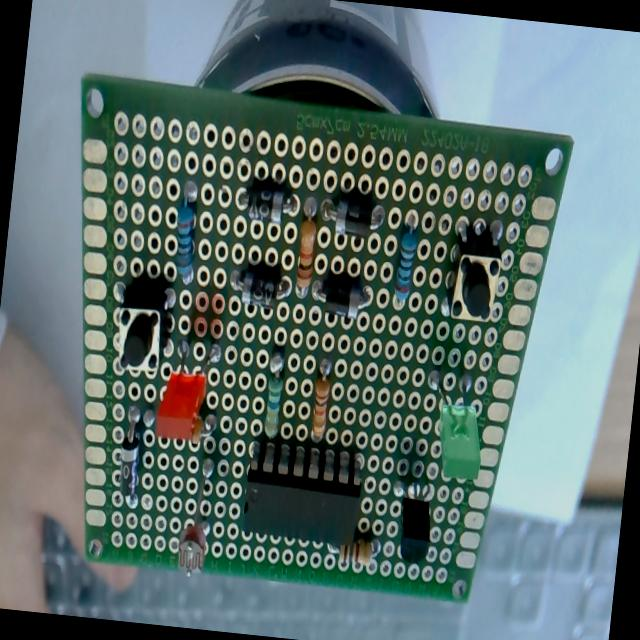IC: (237, 440, 366, 550)
cds: (174, 455, 216, 577)
diode: (227, 262, 293, 312), (308, 272, 372, 322), (319, 194, 385, 242), (115, 402, 146, 502), (237, 179, 300, 226)
led: (418, 362, 491, 482), (153, 332, 214, 442)
resistor: (170, 198, 202, 286), (293, 203, 320, 294), (261, 352, 286, 439), (309, 360, 334, 446), (393, 223, 419, 305), (340, 533, 374, 570)
switch: (112, 285, 170, 377), (444, 234, 502, 324)
transistor: (385, 468, 437, 567)
